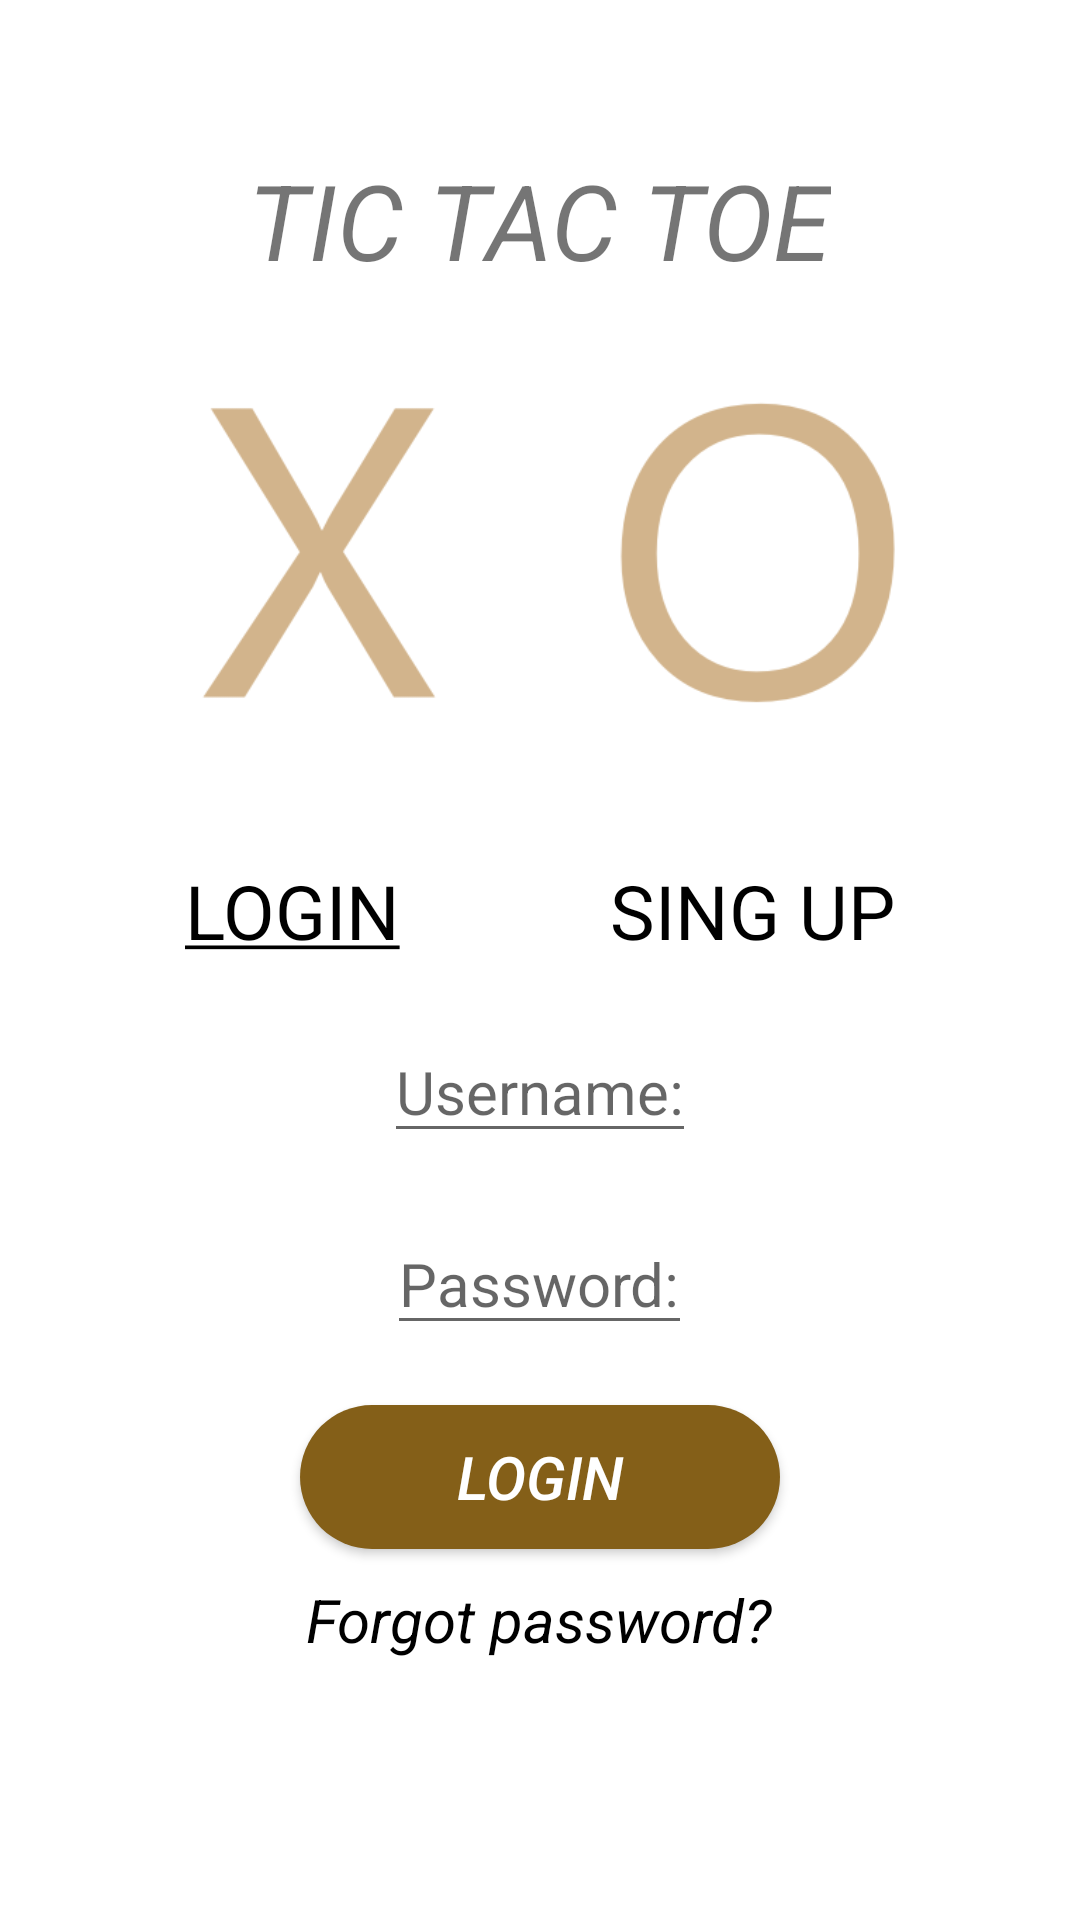

Icons on this 1080×1920 Android screen, each with the point to tap as point (x, y):
lettercircle: point (757, 552)
lettercross: point (319, 553)
